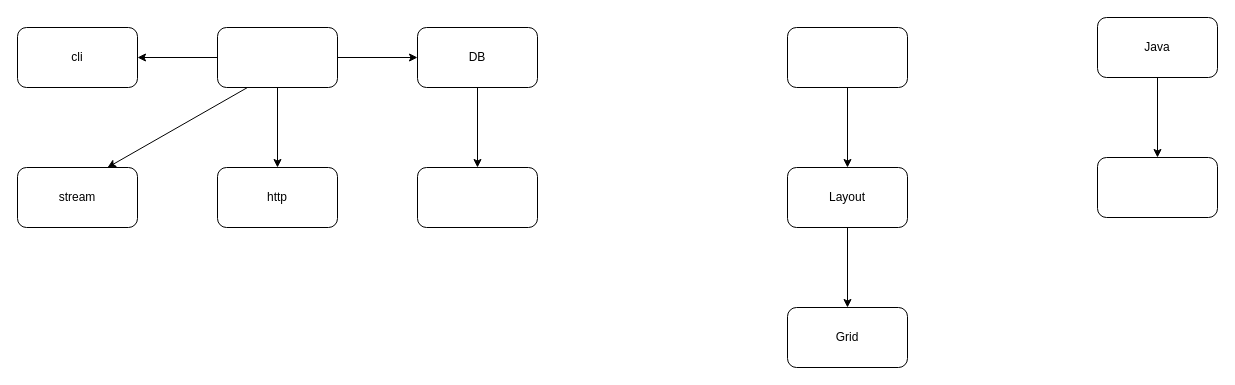
Some shapes in this 1235 by 385 pixel diagram are drawn without their labels. Here are the shapes that lost their labels. From the top down, the centre of each, then its label:
At point 277,57: "node".
At point 847,57: "CSS".
At point 477,197: "sqlite".
At point 1157,187: "Maven".
